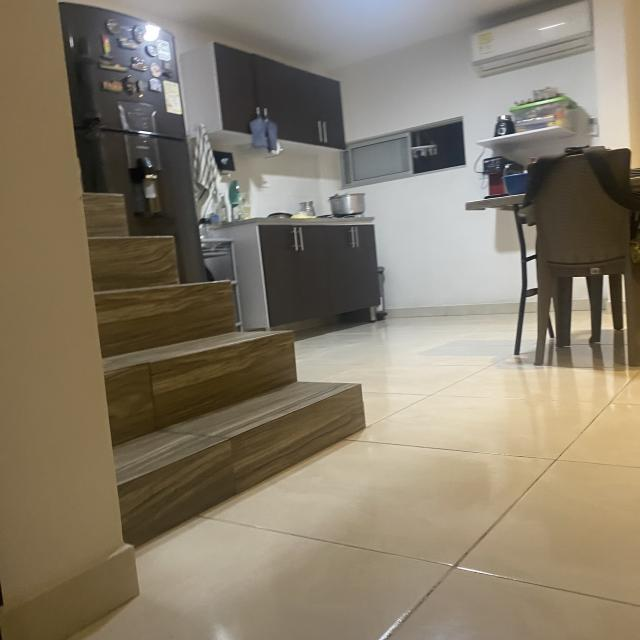obstacle: (460, 156, 640, 396), (212, 198, 406, 344)
stair: (52, 172, 390, 541)
